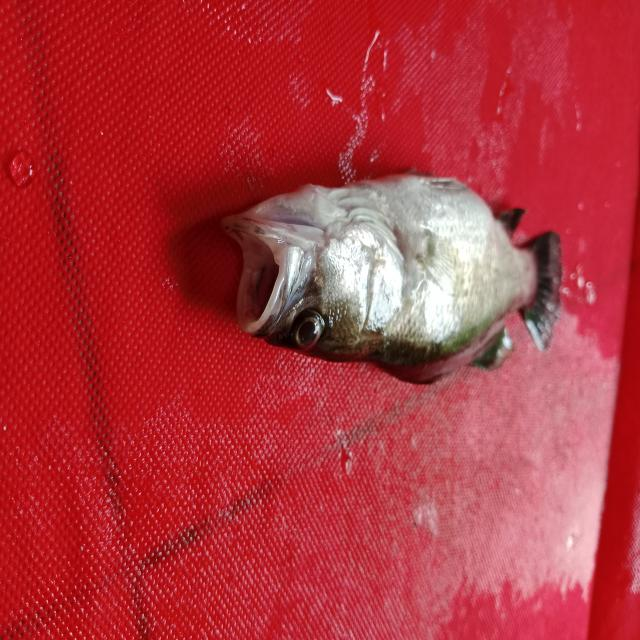ikan: (220, 159, 593, 399)
